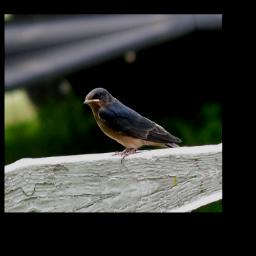Swallow: (81, 71, 184, 171)
